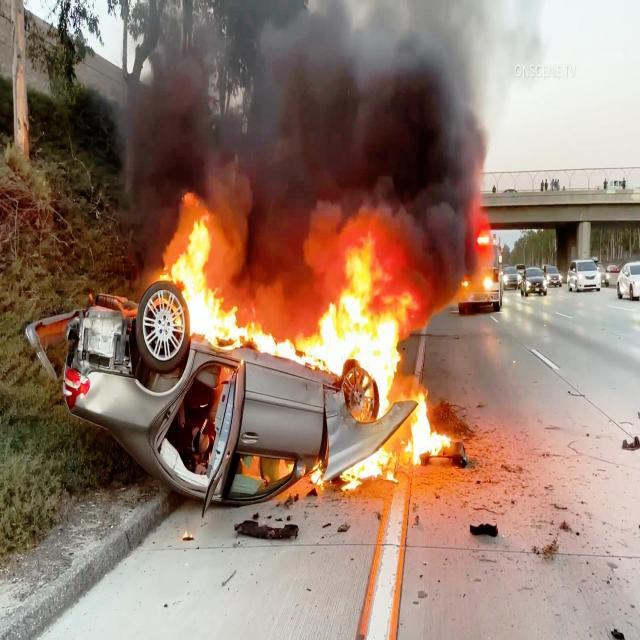Fire: (318, 241, 454, 482), (158, 184, 242, 348), (252, 302, 318, 370)
Smoke: (120, 0, 528, 212)
